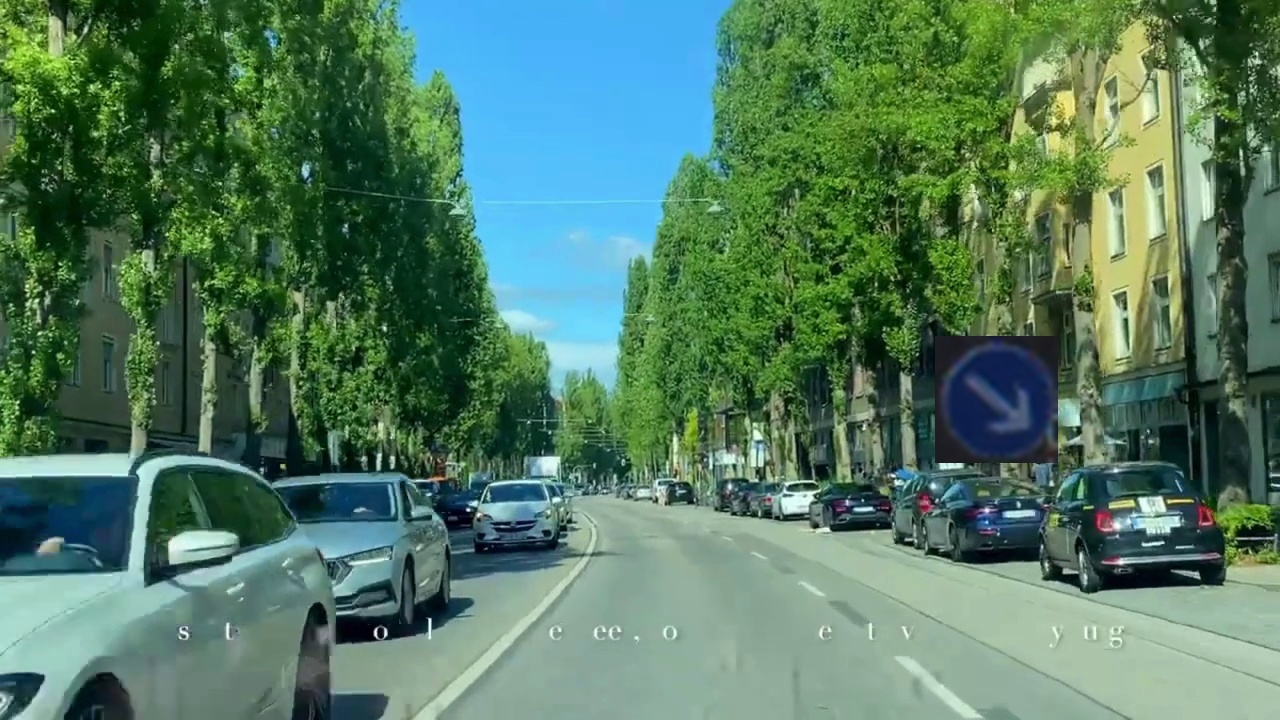Keep right: (935, 336, 1058, 463)
